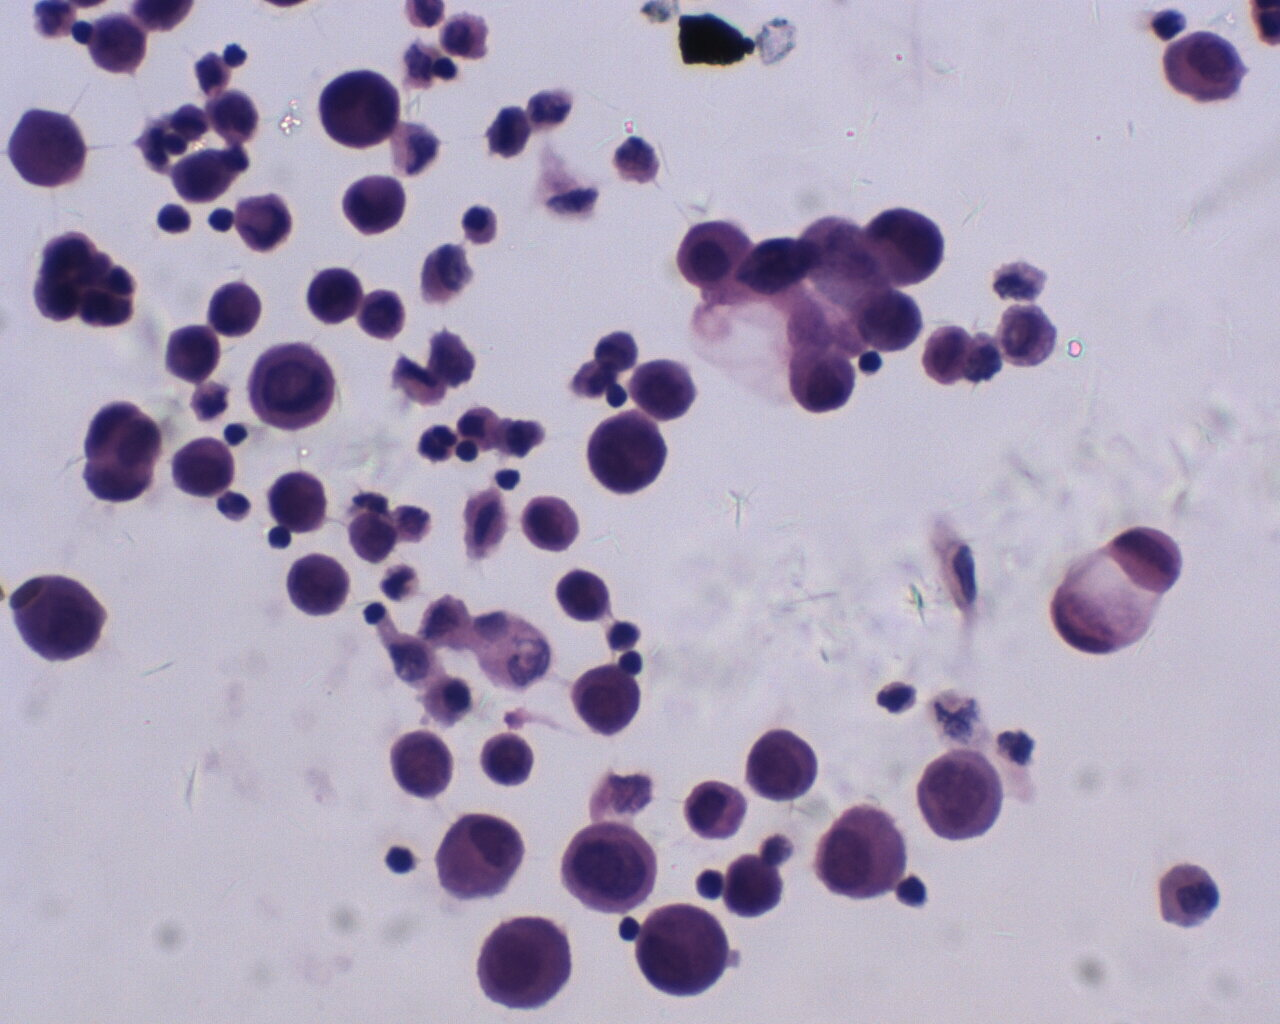ab: (639, 904, 728, 1003), (914, 748, 1004, 842), (246, 342, 336, 433), (561, 825, 656, 912), (588, 414, 666, 497), (317, 72, 395, 149), (391, 732, 453, 799)
lymph: (382, 842, 416, 872)
meso: (812, 801, 906, 902), (433, 816, 525, 903), (672, 215, 749, 294), (787, 347, 860, 414), (1157, 863, 1220, 930), (685, 777, 746, 840), (523, 495, 583, 554)
